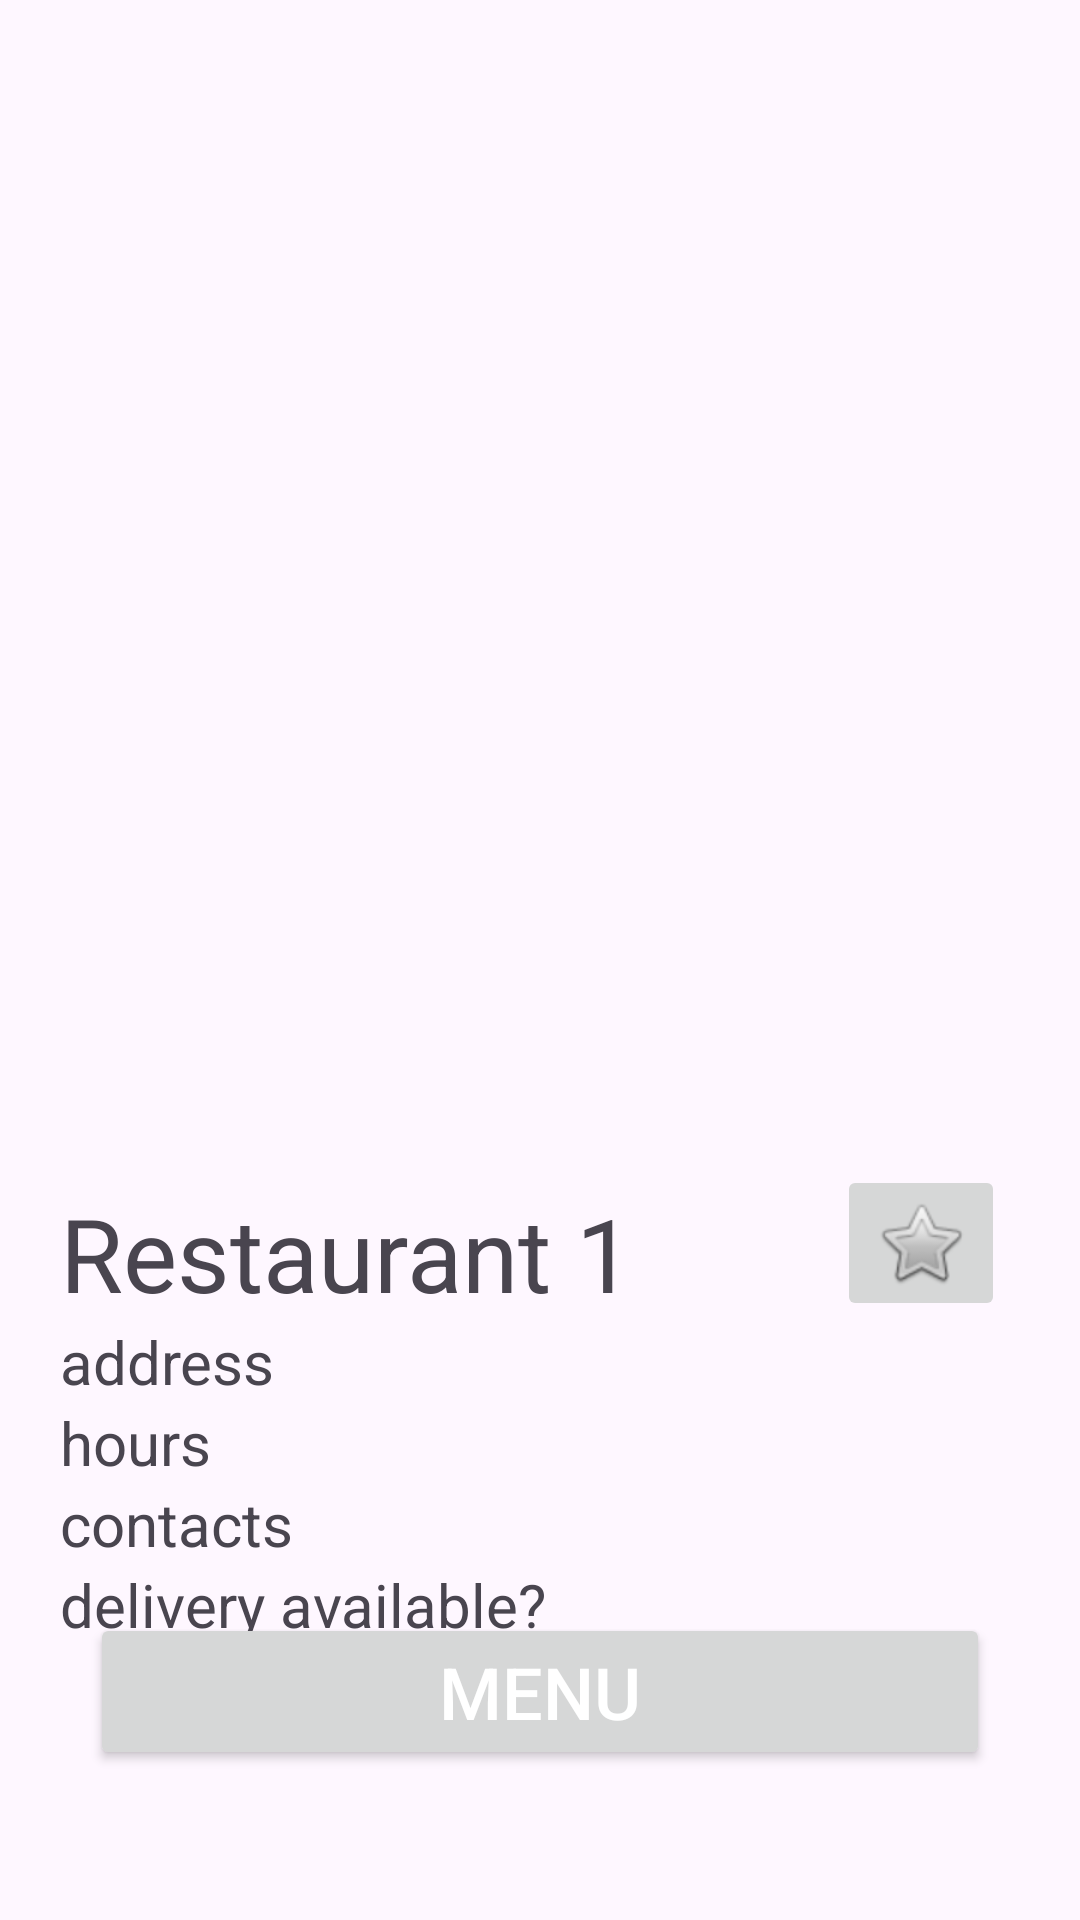

Screen size 1080px x 1920px. Icon name, then its box in pixels as (x1, y1, x2, y2):
star: (849, 1183, 993, 1303)
